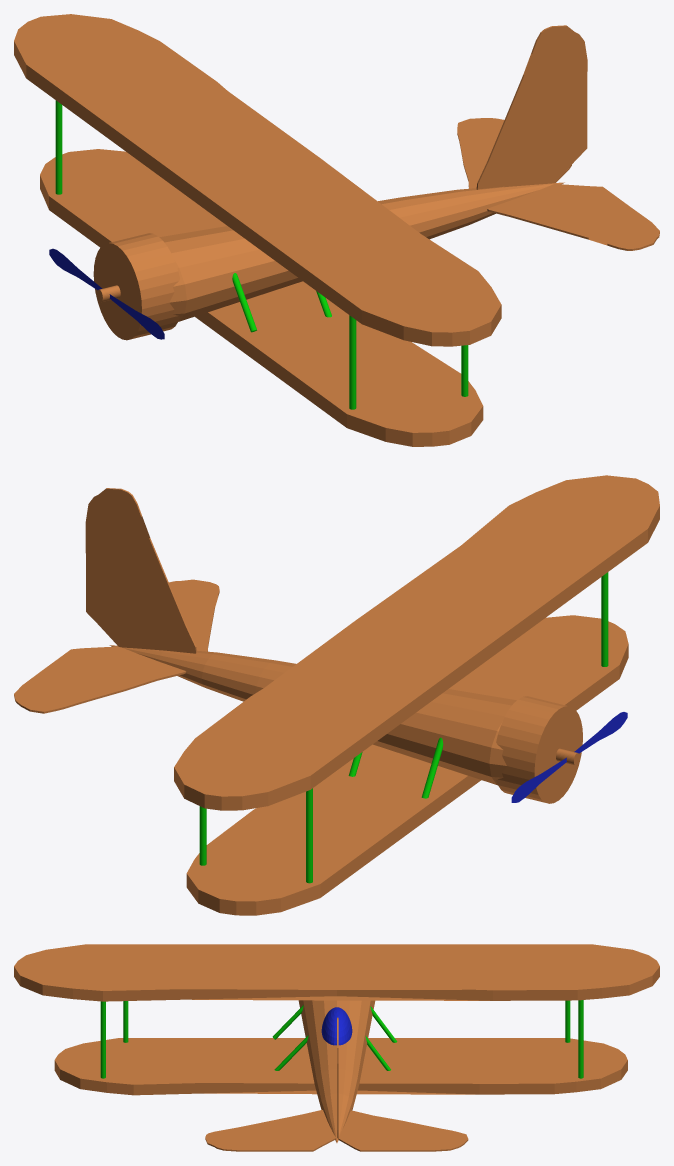
3 views of the same model, one above another, from view 1: azimuth 30°, elevation 25°; view 2: azimuth 150°, elevation 25°; view 3: azimuth 270°, elevation 25° (orthographic). The views are drawn at different scales.
Parts seen in each view (by area): view 1: Plane, Plane.003, Plane.002, Plane.004, Plane.001, Cylinder, Plane.005, Cylinder.002, Cylinder.004; view 2: Plane, Plane.003, Plane.002, Plane.004, Plane.001, Cylinder, Plane.005, Cylinder.004, Cylinder.002; view 3: Plane, Plane.003, Plane.001, Plane.002, Sphere, Cylinder.003, Cylinder.005.
Part boxes in pixels (x1,y1,x2,y2): Plane: [14, 14, 501, 346]; Plane.003: [40, 149, 483, 446]; Plane.002: [159, 182, 564, 321]; Plane.004: [476, 25, 587, 189]; Plane.001: [457, 118, 659, 250]; Cylinder: [93, 233, 179, 340]; Plane.005: [49, 248, 164, 339]; Cylinder.002: [55, 100, 62, 194]; Cylinder.004: [349, 315, 356, 409]; Plane: [174, 475, 659, 810]; Plane.003: [186, 615, 628, 915]; Plane.002: [109, 645, 516, 785]; Plane.004: [85, 488, 196, 653]; Plane.001: [14, 579, 219, 713]; Cylinder: [496, 696, 582, 803]; Plane.005: [511, 712, 627, 802]; Cylinder.004: [601, 572, 608, 666]; Cylinder.002: [306, 788, 312, 883]; Plane: [14, 944, 659, 1001]; Plane.003: [54, 1038, 627, 1095]; Plane.001: [205, 1110, 468, 1151]; Plane.002: [298, 1000, 375, 1142]; Sphere: [321, 1007, 352, 1045]; Cylinder.003: [578, 1000, 583, 1078]; Cylinder.005: [100, 1001, 105, 1078].
Bounding box in the file's own units: 3.27 × 1.35 × 4.99.
